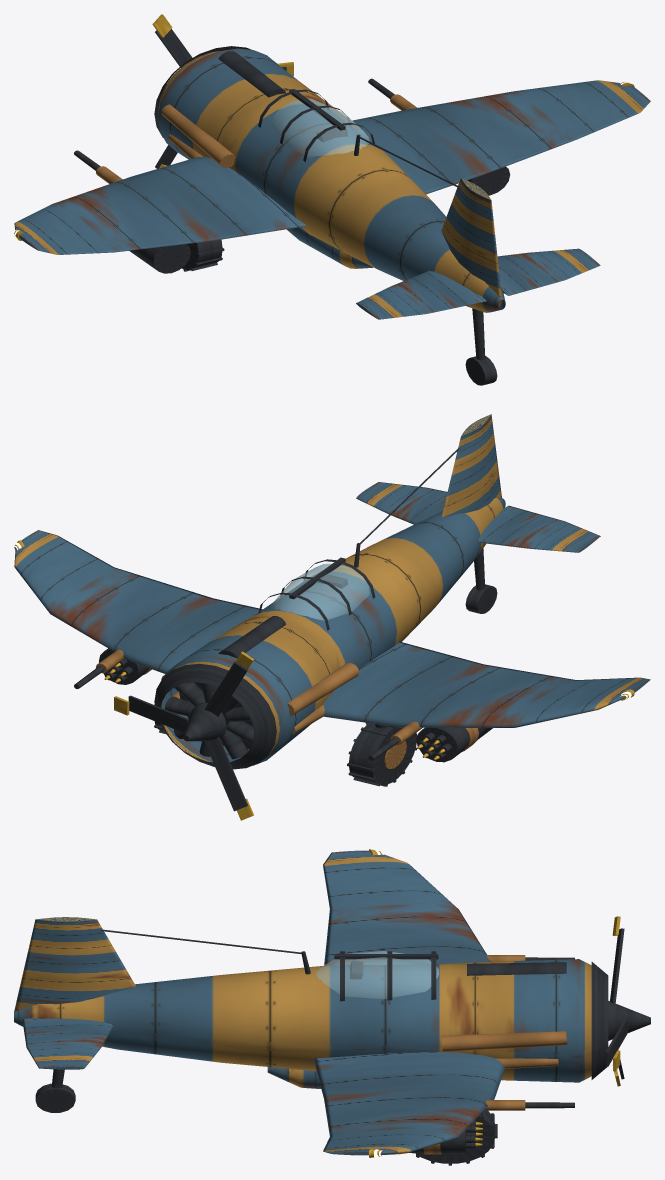
File: scrapyard_fighter.glb
3 renders of one model, top to bottom at view 1: azimuth 30°, elevation 25°; view 2: azimuth 150°, elevation 25°; view 3: azimuth 270°, elevation 25°, orthographic.
Visible parts, largest first — view 1: airframe, cockpit_glass, propeller_L, gear_tail, gear_L; view 2: airframe, propeller_L, cockpit_glass, gear_L, gear_tail; view 3: airframe, cockpit_glass, propeller_L, gear_R, gear_tail.
Part boxes in pixels (x1,y1,x2,y2): airframe: (14,46,650,319); cockpit_glass: (270,99,369,157); propeller_L: (152,14,293,168); gear_tail: (465,308,497,385); gear_L: (181,239,224,271); airframe: (14,414,650,769); propeller_L: (114,651,253,820); cockpit_glass: (270,563,369,620); gear_L: (347,722,417,786); gear_tail: (465,548,497,613); airframe: (14,849,608,1157); cockpit_glass: (316,951,438,999); propeller_L: (605,916,650,1086); gear_R: (415,1110,497,1165); gear_tail: (35,1069,75,1112).
Size of the model in its own units: 10.9 by 3.22 by 9.65.
3 materials, 1 textured.
